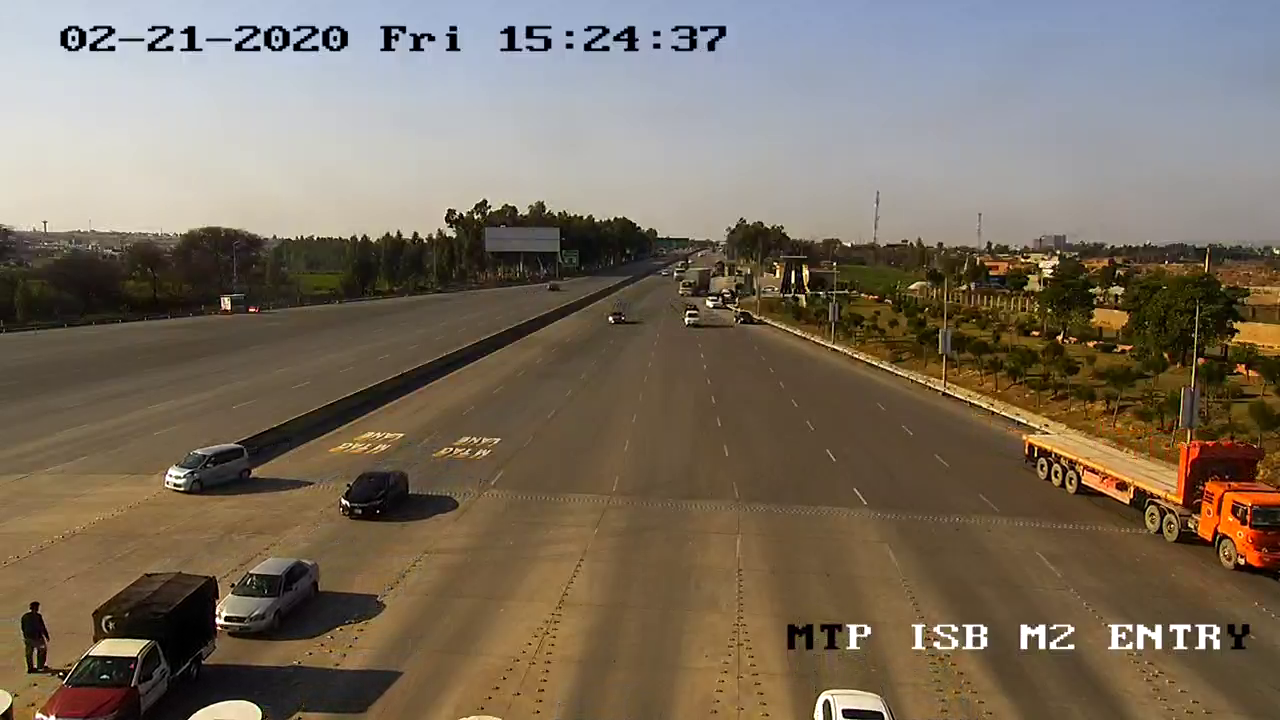f1: (212, 548, 328, 636), (334, 466, 413, 527)
f6: (1017, 421, 1280, 580)
